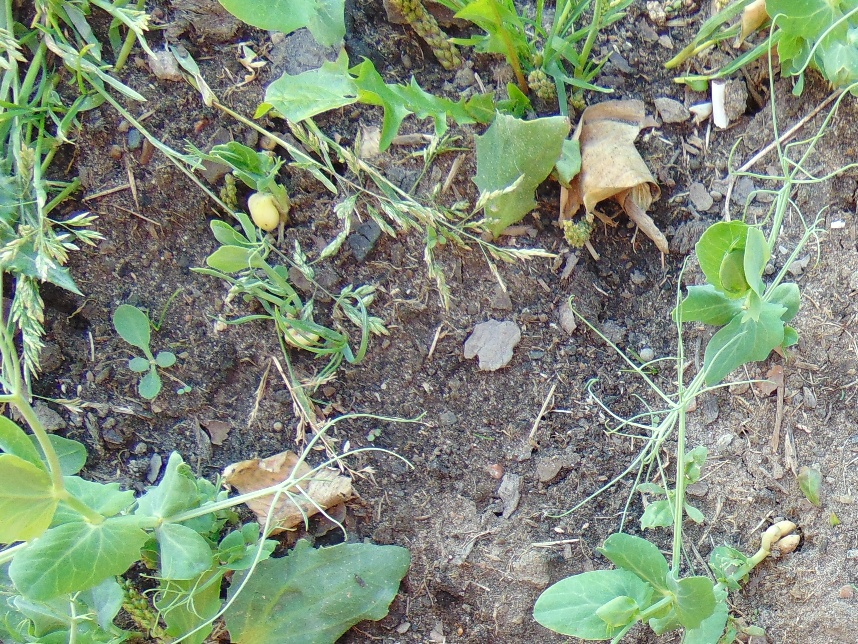crop: (542, 349, 814, 635), (2, 401, 240, 642), (669, 175, 815, 443), (185, 138, 325, 352), (125, 434, 365, 533), (757, 1, 858, 176), (211, 1, 358, 48)
weed: (314, 140, 578, 370), (265, 57, 608, 212), (1, 1, 107, 404), (444, 1, 634, 165), (245, 537, 414, 642), (35, 1, 170, 117), (112, 302, 175, 400)
